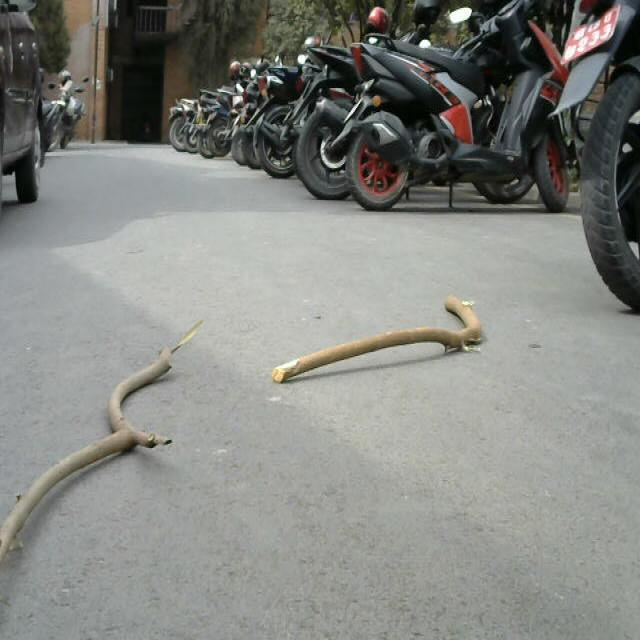Bike: (157, 22, 636, 254), (49, 60, 93, 161)
Car: (0, 0, 54, 215)
small-obstacles: (0, 318, 226, 570)
trees: (256, 288, 566, 384)
